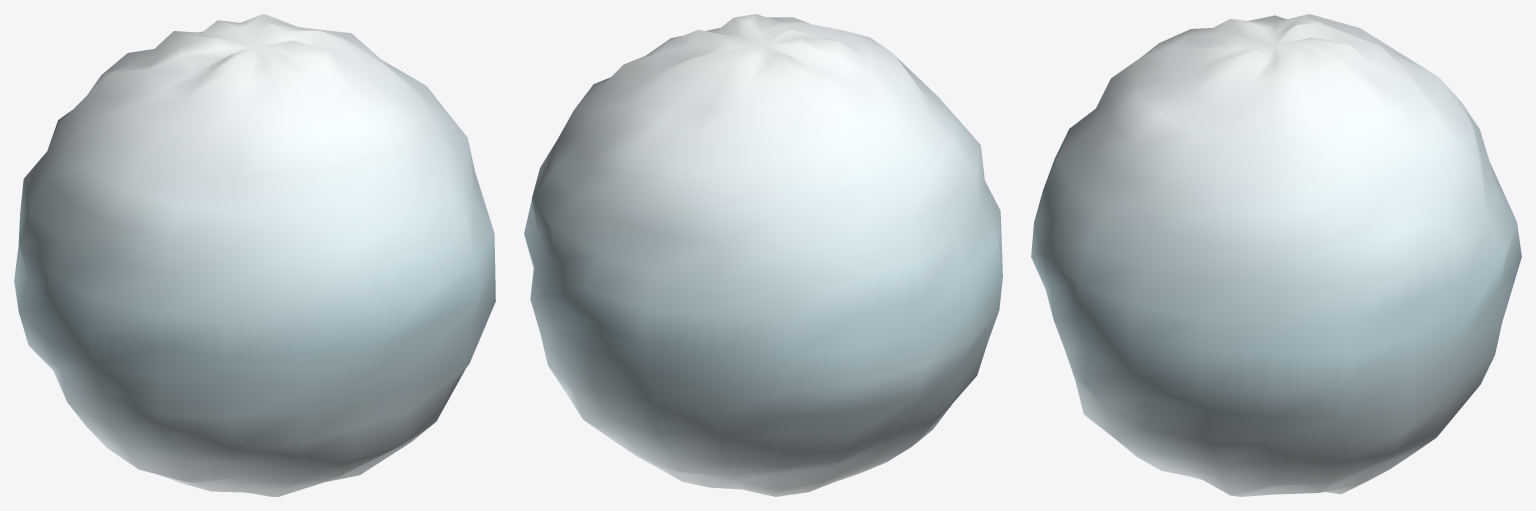
Rendered from ball.fbx.
3 views of the same model, side by side, from view 1: azimuth 30°, elevation 25°; view 2: azimuth 150°, elevation 25°; view 3: azimuth 270°, elevation 25° (orthographic).
Visible parts, largest first — view 1: ball; view 2: ball; view 3: ball.
Boxes of the visible parts, x1,y1,x2,y2 form: ball: [14, 14, 495, 496]; ball: [524, 14, 1002, 496]; ball: [1031, 14, 1521, 496].
Size of the model in its own units: 0.0243 by 0.0243 by 0.0246.
